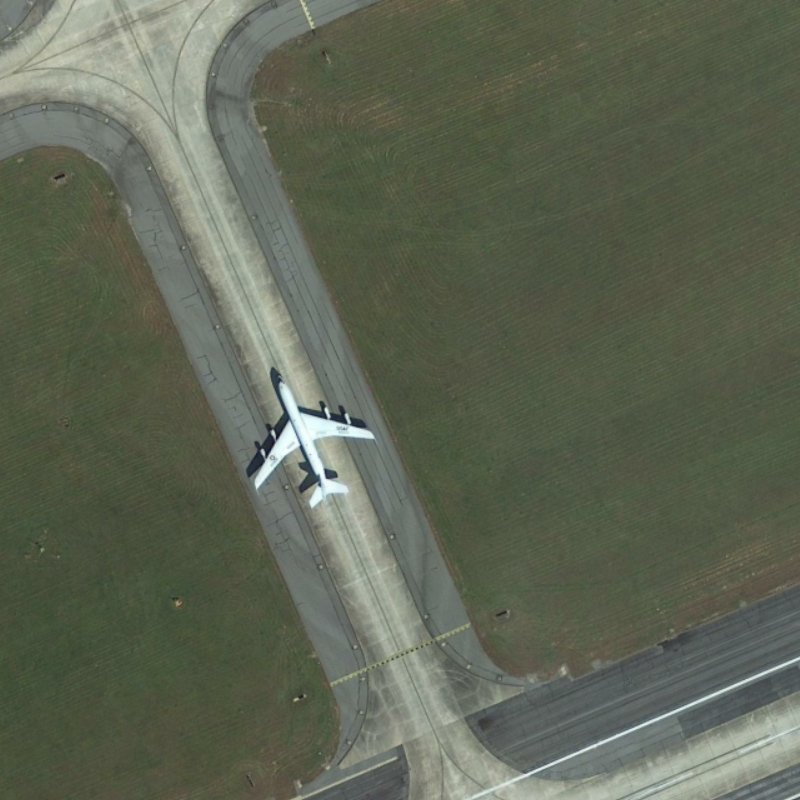A11: (247, 368, 378, 512)
